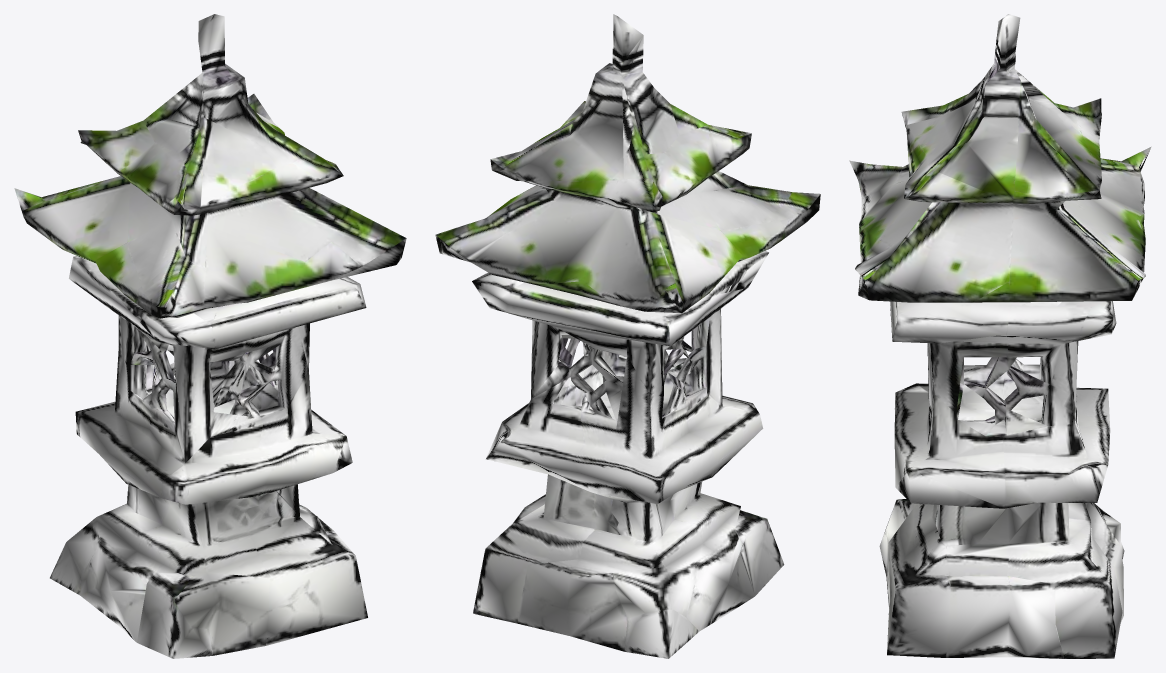
File: lantern.glb
The picture shows the model from 3 angles, left to right: view 1: azimuth 30°, elevation 25°; view 2: azimuth 150°, elevation 25°; view 3: azimuth 270°, elevation 25°; orthographic projection. The views are drawn at different scales.
Size of the model in its own units: 0.8419 by 1.87 by 0.8569.
1 material, 1 textured.
